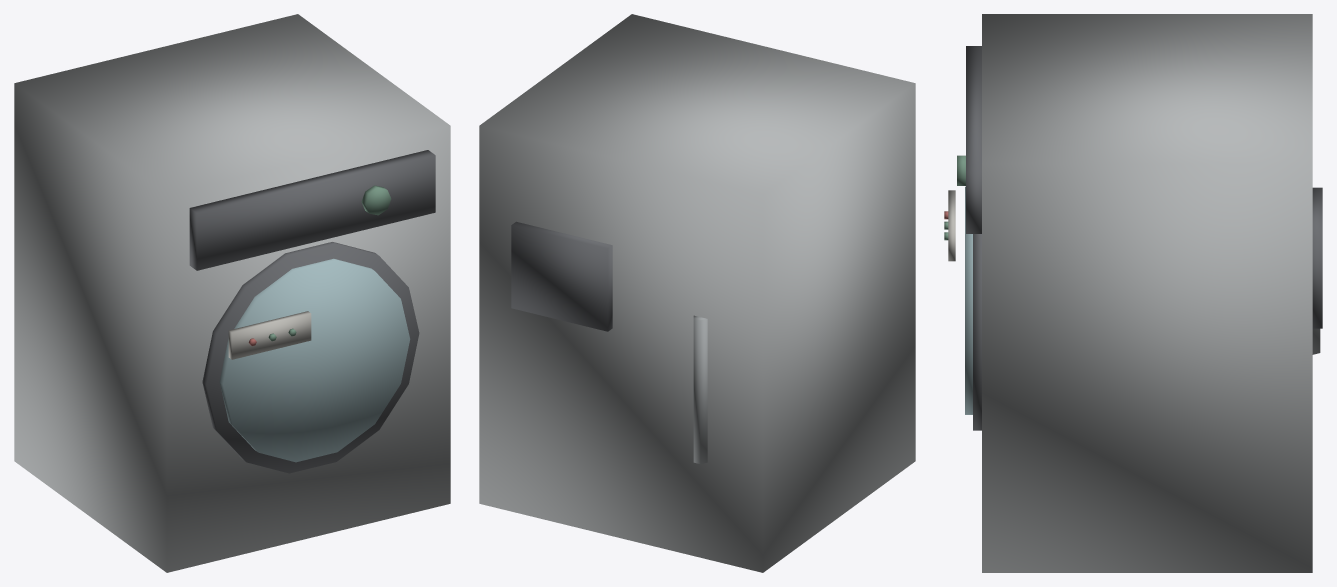
File: industrial_washer__service.glb
3 views of the same model, side by side, from view 1: azimuth 30°, elevation 25°; view 2: azimuth 150°, elevation 25°; view 3: azimuth 270°, elevation 25° (orthographic). The views are drawn at different scales.
Parts seen in each view (by area): view 1: world; view 2: world; view 3: world.
Boxes of the visible parts, bbox=[...] form: world: bbox=[14, 14, 450, 572]; world: bbox=[479, 14, 915, 572]; world: bbox=[944, 14, 1322, 572].
Bounding box in the file's own units: 0.88 × 1.12 × 0.9386.
